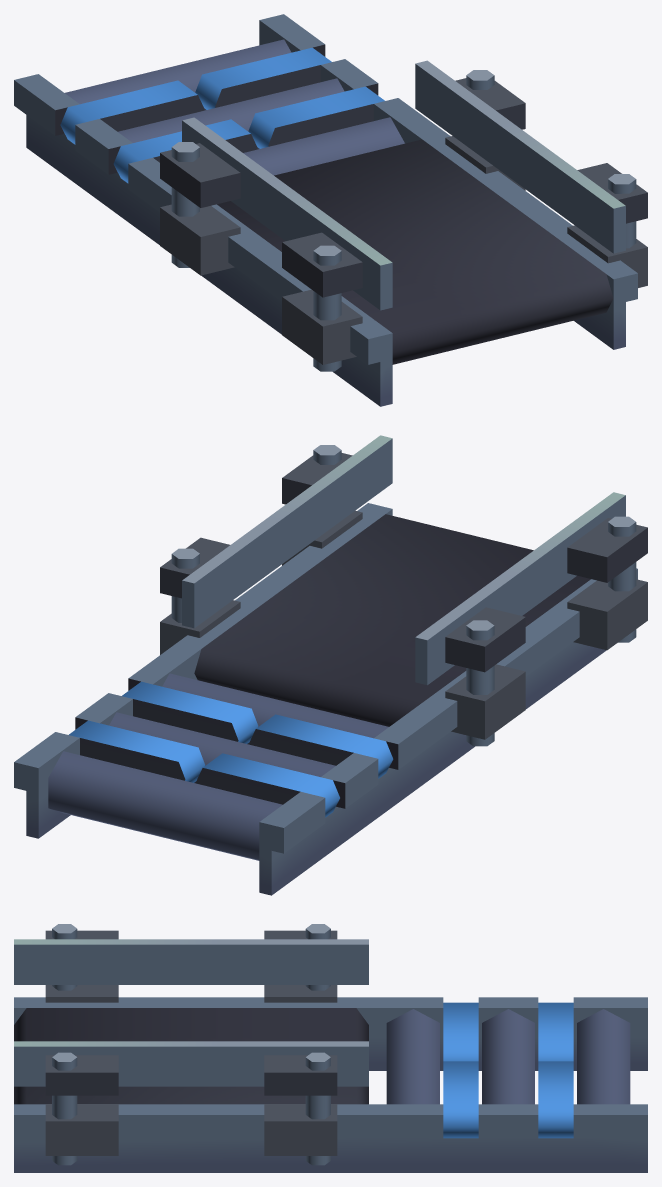
The model's file is Conveyor(1).fbx.
3 views of the same model, one above another, from view 1: azimuth 30°, elevation 25°; view 2: azimuth 150°, elevation 25°; view 3: azimuth 270°, elevation 25° (orthographic). The views are drawn at different scales.
Visible parts, largest first — view 1: Cylinder.078, Cube.292, Cube.287, Cube.285, Cylinder.083, Cylinder.084, Cube.282, Cube.290, Cube.291, Cube.288, Cylinder.088, Cylinder.086 (+4 smaller); view 2: Cylinder.078, Cube.292, Cylinder.086, Cube.287, Cube.285, Cylinder.084, Cylinder.083, Cube.282, Cube.290, Cube.291, Cube.289, Cube.288 (+4 smaller); view 3: Cube.285, Cylinder.078, Cube.282, Cube.287, Cube.292, Cylinder.103, Cylinder.085, Cylinder.086, Cylinder.088, Cylinder.087, Cube.290, Cube.291 (+4 smaller).
Boxes of the visible parts, <box> form: Cylinder.078: <box>217,139,613,364</box>; Cube.292: <box>14,74,392,406</box>; Cube.287: <box>415,60,625,253</box>; Cube.285: <box>259,14,637,349</box>; Cylinder.083: <box>160,142,240,275</box>; Cylinder.084: <box>282,232,362,371</box>; Cube.282: <box>182,117,392,310</box>; Cube.290: <box>195,47,331,109</box>; Cube.291: <box>248,86,384,148</box>; Cube.288: <box>60,80,204,144</box>; Cylinder.088: <box>243,117,404,175</box>; Cylinder.086: <box>65,39,291,110</box>; Cylinder.078: <box>194,514,590,726</box>; Cube.292: <box>259,568,637,895</box>; Cylinder.086: <box>48,751,282,860</box>; Cube.287: <box>182,435,392,628</box>; Cube.285: <box>14,503,392,838</box>; Cylinder.084: <box>567,516,647,650</box>; Cylinder.083: <box>445,607,525,746</box>; Cube.282: <box>415,492,625,685</box>; Cube.290: <box>69,720,204,782</box>; Cube.291: <box>122,681,258,743</box>; Cube.289: <box>249,714,393,778</box>; Cube.288: <box>196,753,339,817</box>; Cube.285: <box>14,1104,647,1172</box>; Cylinder.078: <box>14,1008,368,1104</box>; Cube.282: <box>14,939,368,984</box>; Cube.287: <box>14,1041,368,1086</box>; Cube.292: <box>14,997,647,1070</box>; Cylinder.103: <box>264,1052,337,1165</box>; Cylinder.085: <box>45,1052,118,1165</box>; Cylinder.086: <box>577,1009,630,1104</box>; Cylinder.088: <box>386,1009,439,1104</box>; Cylinder.087: <box>482,1009,534,1104</box>; Cube.290: <box>538,1061,573,1138</box>; Cube.291: <box>443,1061,478,1138</box>.
Size of the model in its own units: 0.53 by 0.22 by 1.
